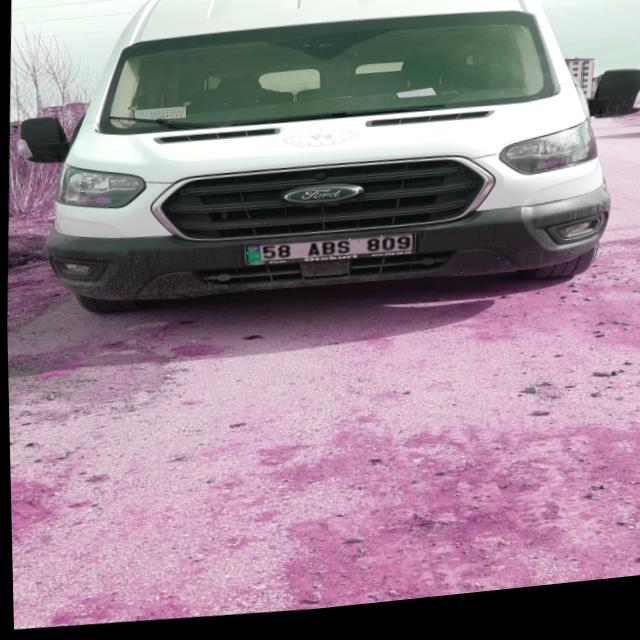plate: (244, 236, 414, 272)
